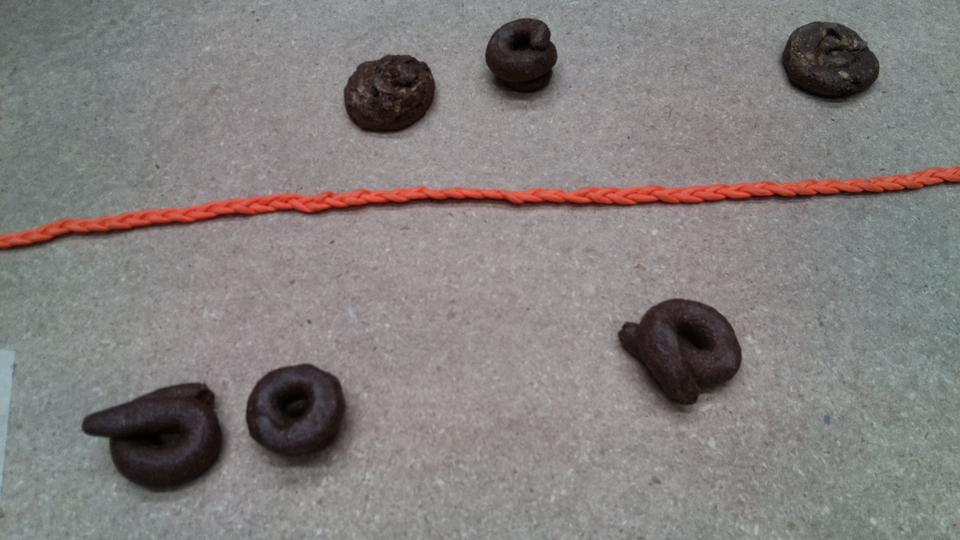poop: (78, 376, 229, 497), (615, 290, 747, 417), (244, 357, 355, 466), (336, 43, 437, 137), (782, 19, 881, 106), (481, 14, 566, 104)
rope: (2, 182, 458, 255), (438, 172, 960, 225)
